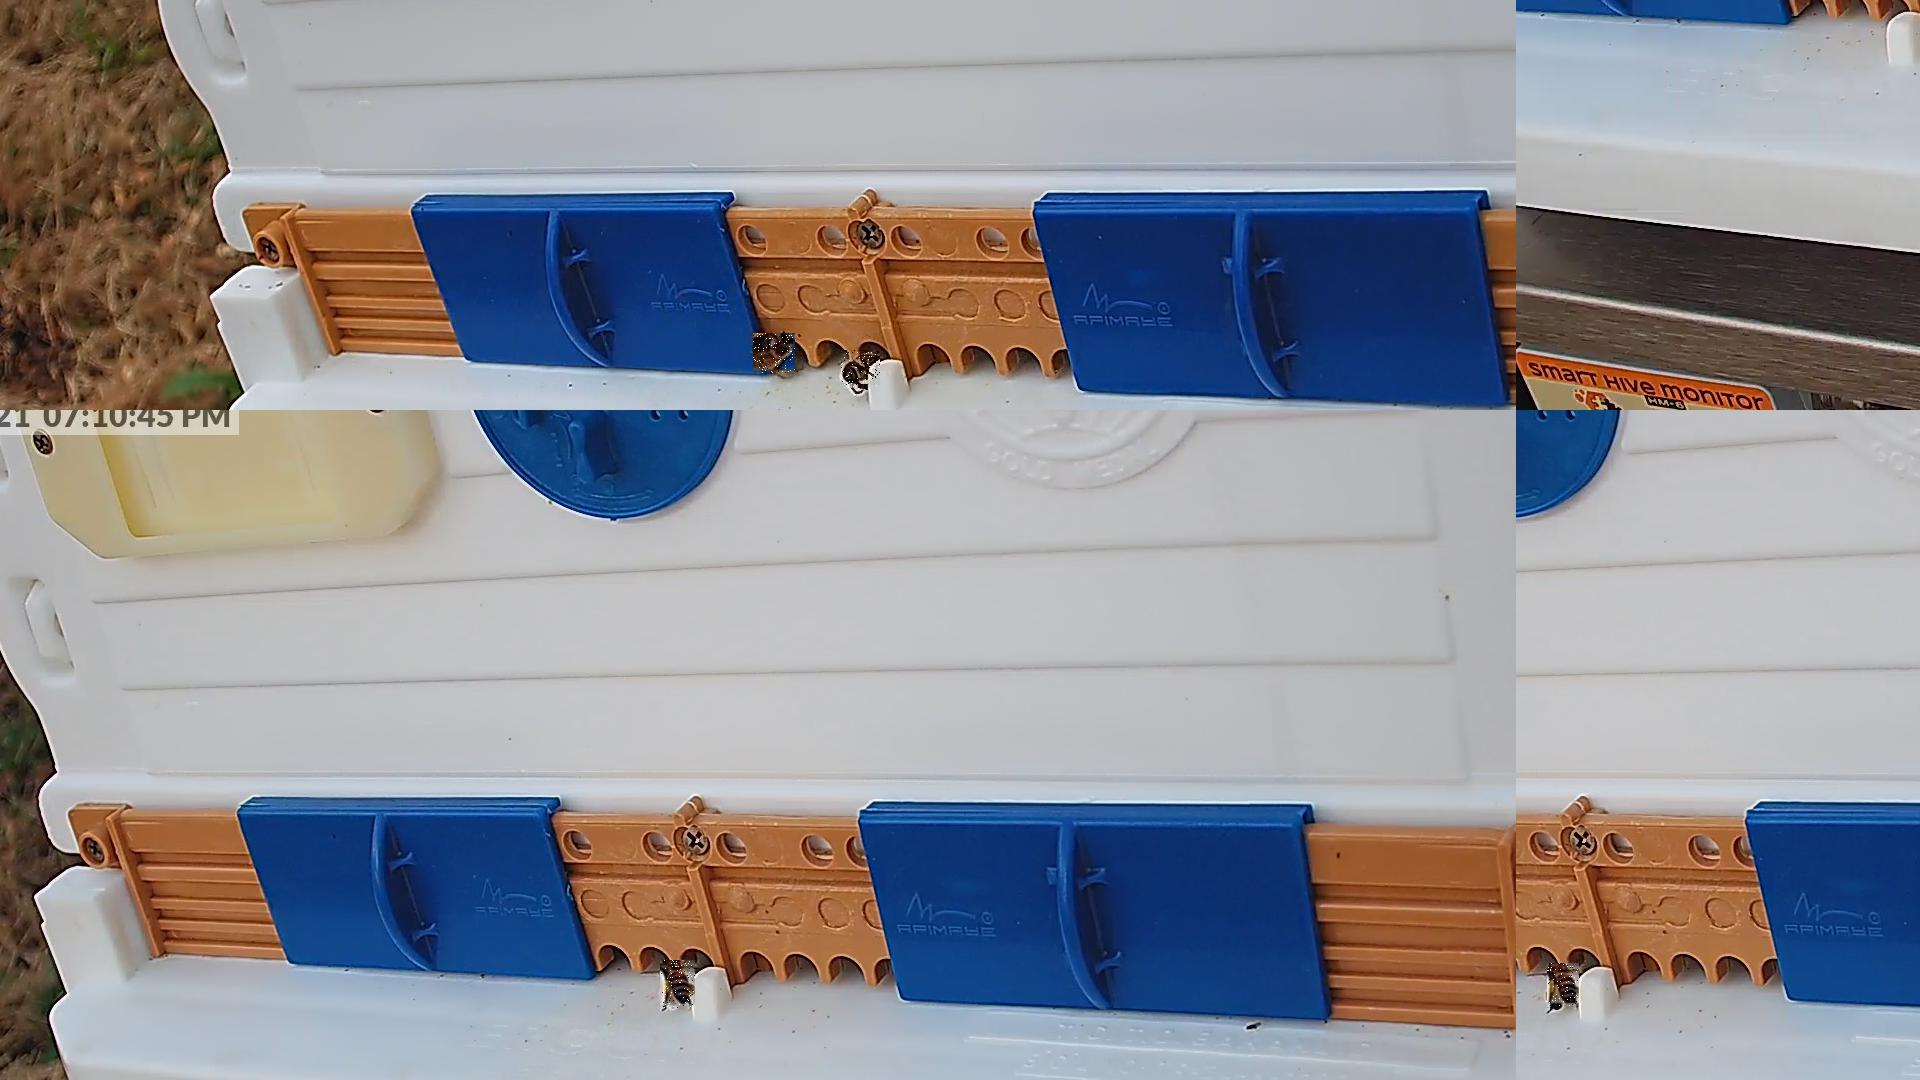bee: (753, 334, 796, 375), (841, 351, 881, 389)
pollenbee: (661, 961, 696, 1010), (1547, 964, 1580, 1007)
